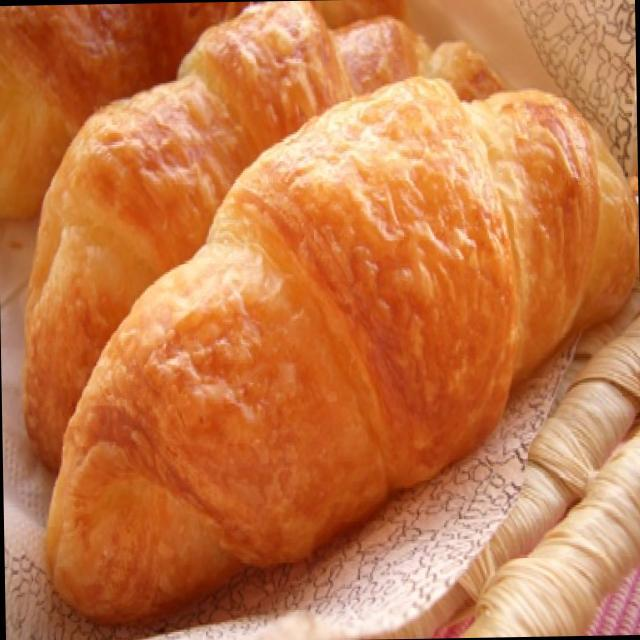Croissant: (43, 79, 640, 609)
